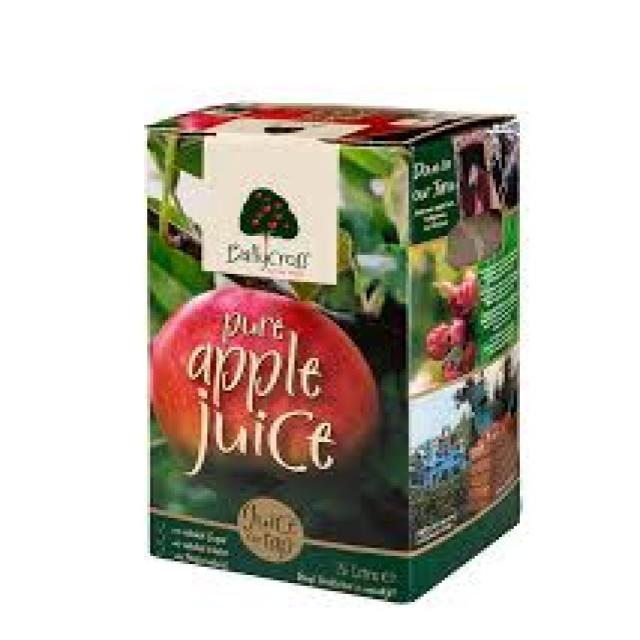non_white_jug: (120, 80, 541, 614)
